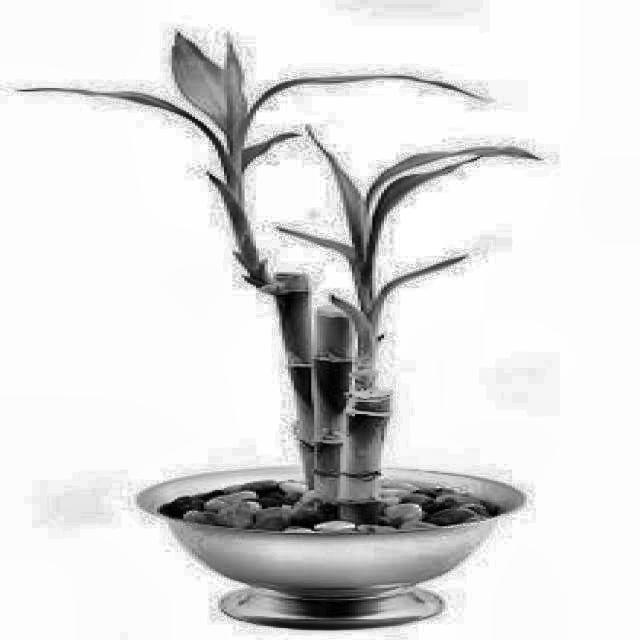plants: (8, 31, 542, 560)
